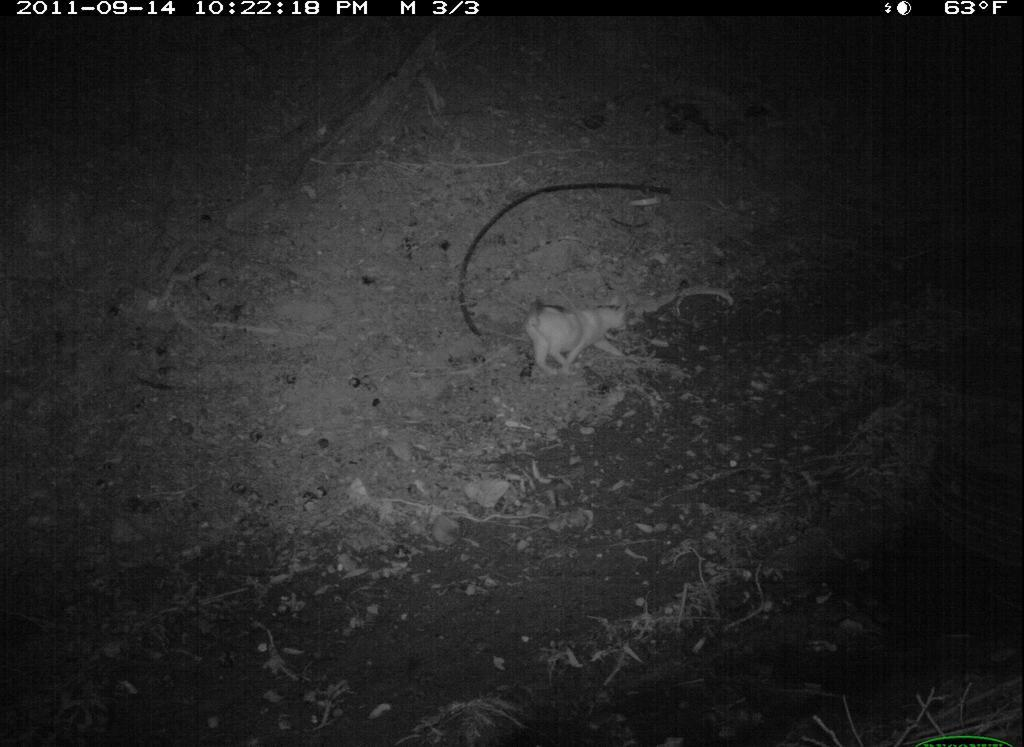cat: (518, 289, 643, 383)
